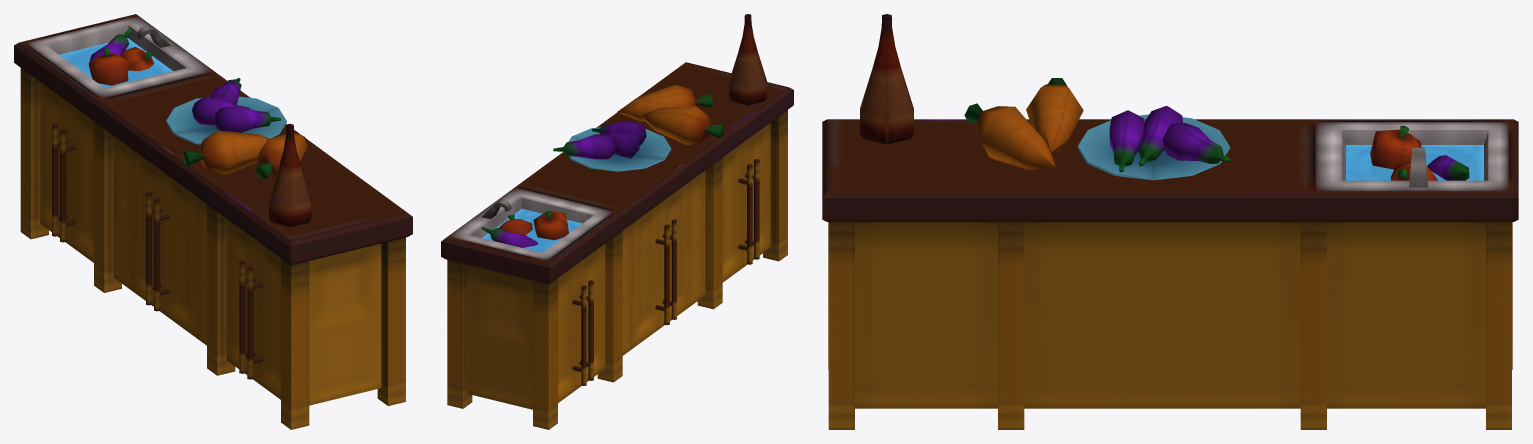
File: Kitchen_Cabinet_01.gltf
3 views of the same model, side by side, from view 1: azimuth 30°, elevation 25°; view 2: azimuth 150°, elevation 25°; view 3: azimuth 270°, elevation 25° (orthographic). The views are drawn at different scales.
Visible parts, largest first — view 1: Kitchen_Cabinet_01; view 2: Kitchen_Cabinet_01; view 3: Kitchen_Cabinet_01.
Part boxes in pixels (bbox=[...]): Kitchen_Cabinet_01: bbox=[14, 14, 412, 429]; Kitchen_Cabinet_01: bbox=[441, 14, 793, 429]; Kitchen_Cabinet_01: bbox=[822, 14, 1518, 429].
Bounding box in the file's own units: 24.16 × 48.58 × 86.01.
Materials: 1 (1 with a texture image).
